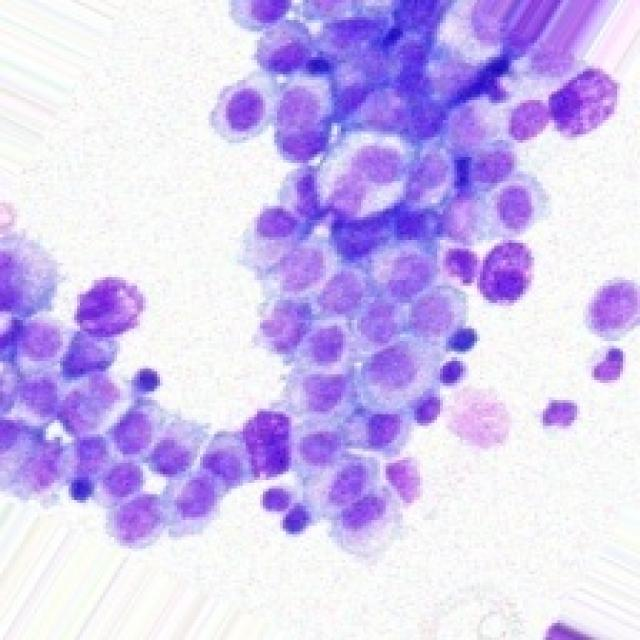Amoeba: (0, 0, 637, 557)
